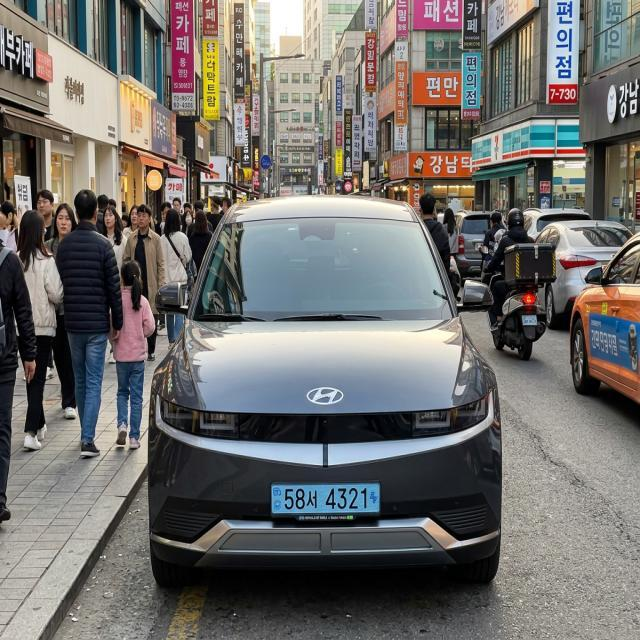car: (265, 474, 393, 532)
carev: (270, 483, 285, 516), (368, 481, 381, 519)
